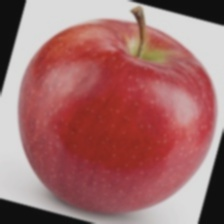apple: (17, 42, 193, 177)
